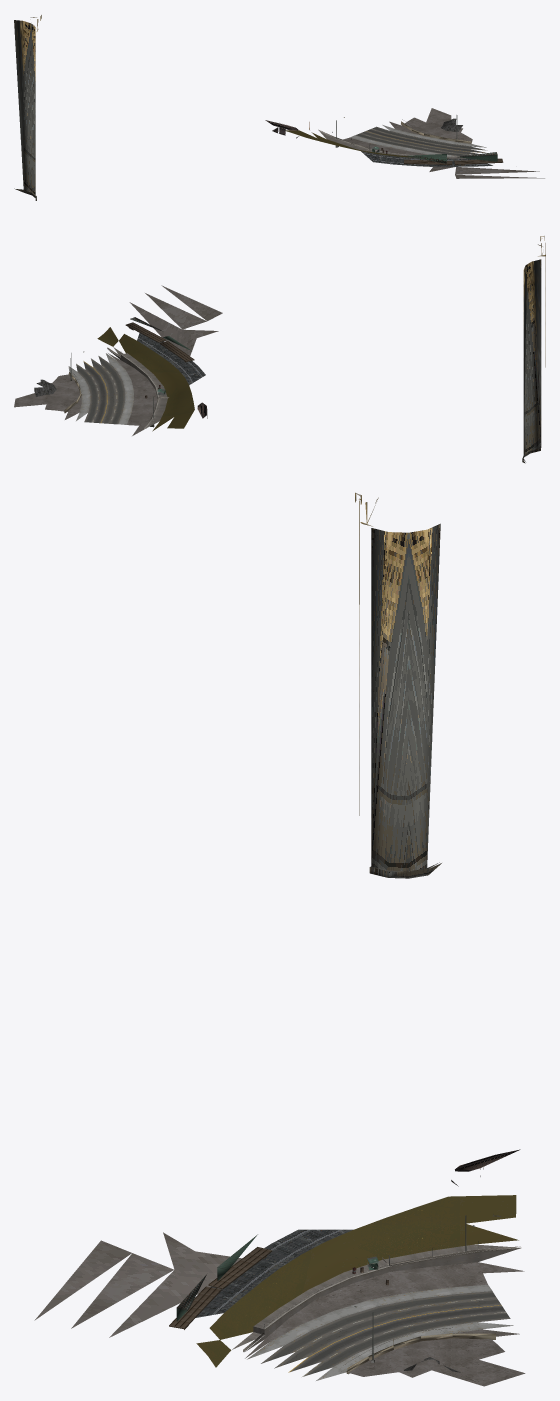
Rendered from world_camden_12_1.gltf.
The picture shows the model from 3 angles, top to bottom: view 1: azimuth 30°, elevation 25°; view 2: azimuth 150°, elevation 25°; view 3: azimuth 270°, elevation 25°; orthographic projection. The views are drawn at different scales.
Size of the model in its own units: 264 by 130 by 125.
Materials: 32 (32 with a texture image).
